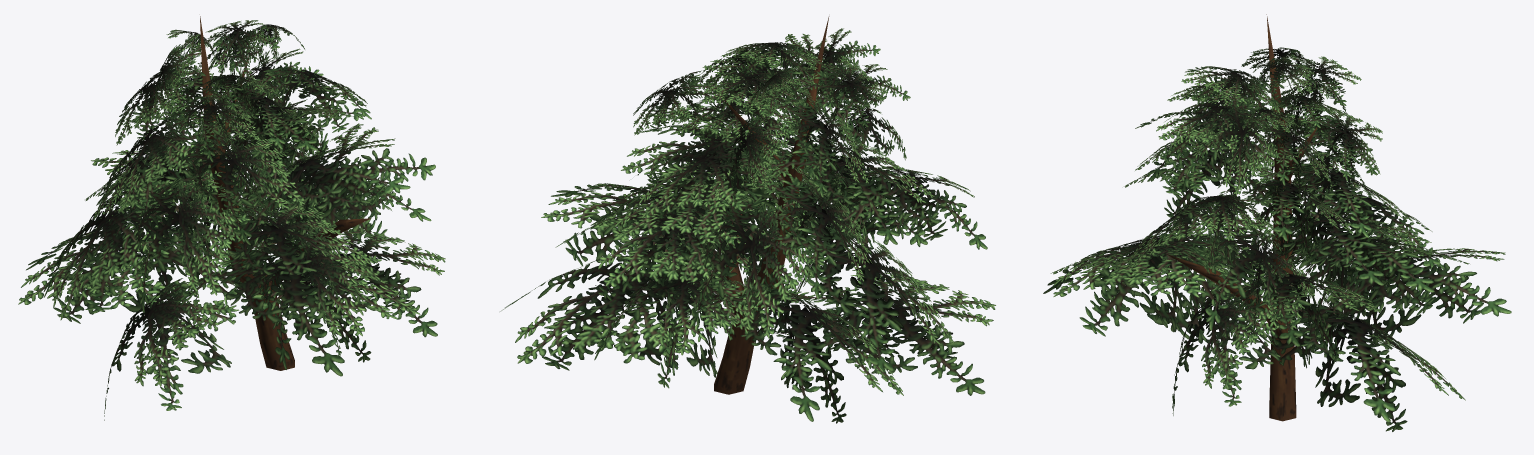
The model's file is Tree_02_Mid.fbx.
The picture shows the model from 3 angles, left to right: view 1: azimuth 30°, elevation 25°; view 2: azimuth 150°, elevation 25°; view 3: azimuth 270°, elevation 25°; orthographic projection. The views are drawn at different scales.
Visible parts, largest first — view 1: polySurface64; view 2: polySurface64; view 3: polySurface64.
Boxes of the visible parts, left/top/right/bottom form: polySurface64: left=18, top=16, right=445, bottom=420; polySurface64: left=500, top=16, right=995, bottom=423; polySurface64: left=1043, top=14, right=1511, bottom=431.
Size of the model in its own units: 9.13 by 7.96 by 9.88.
